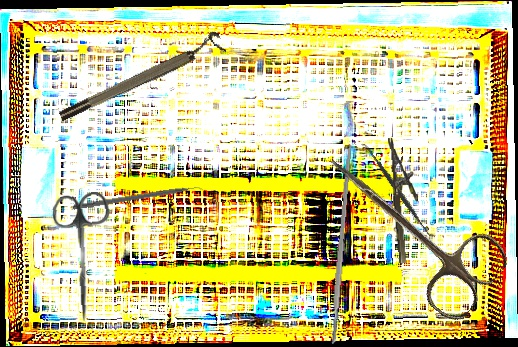Chopper: (72, 183, 210, 217)
Fixation Ring: (54, 29, 227, 125)
Iris Scissors: (300, 129, 515, 327), (50, 191, 116, 323)
Needle Holder: (387, 136, 424, 264)
Scalpel Handle: (328, 144, 354, 346)
Spatula Surgical: (358, 138, 438, 243)
